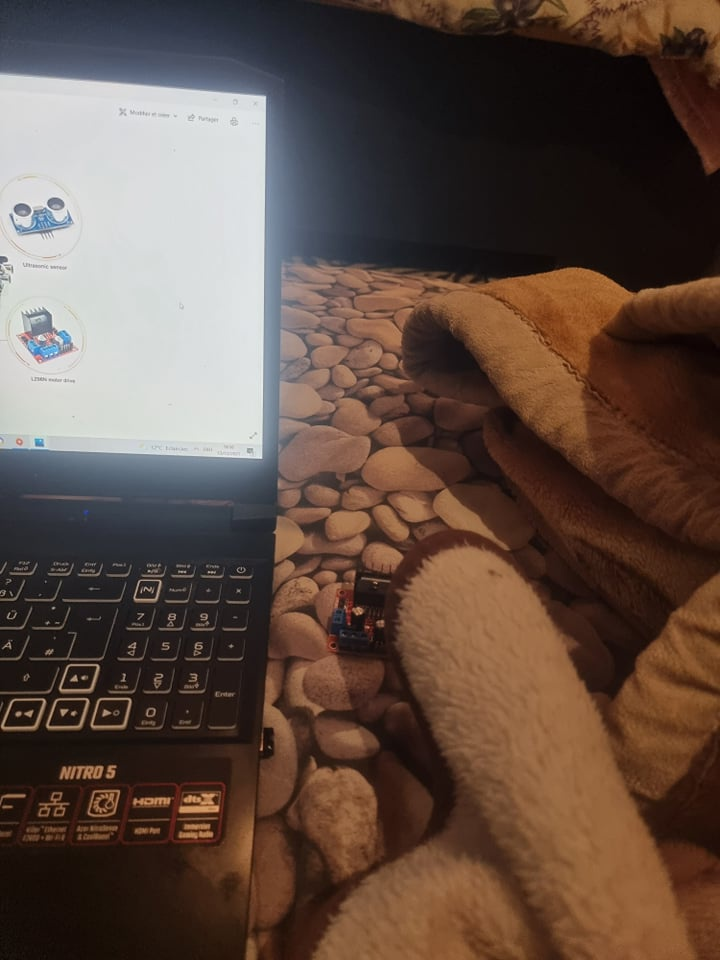MOTOR: (323, 561, 403, 656), (16, 309, 80, 364)
SENSOR: (9, 195, 75, 236)
